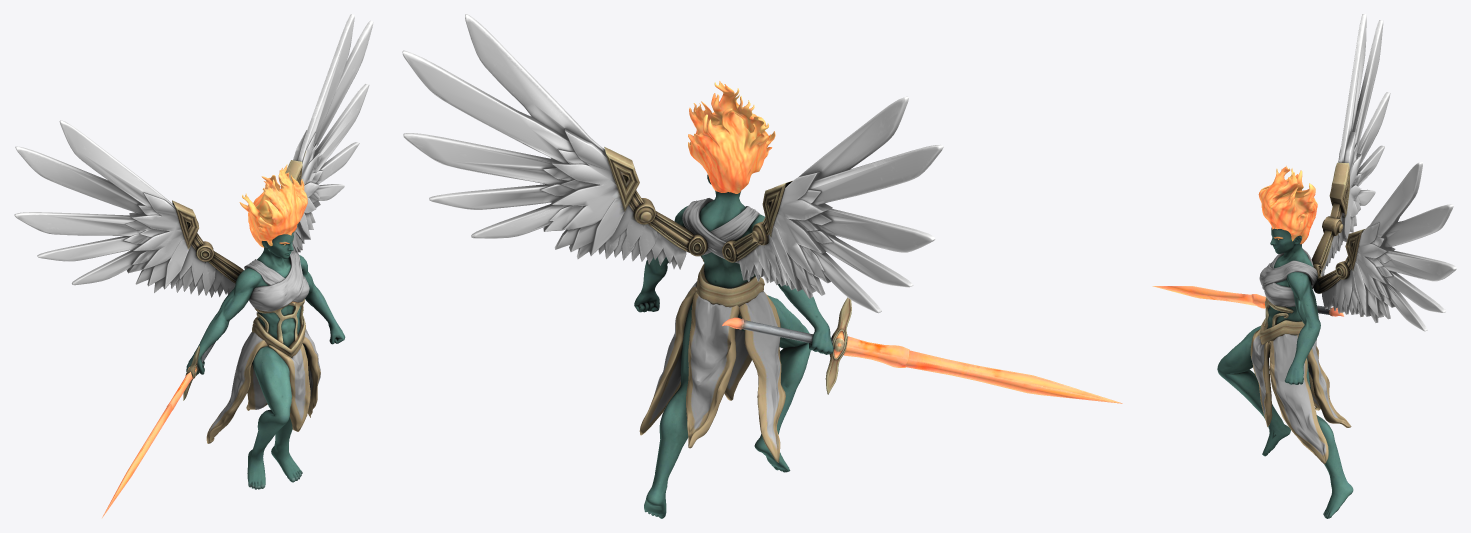
Rendered from MZ4250 - Planetar Female 2025 4K.glb.
3 renders of one model, left to right at view 1: azimuth 30°, elevation 25°; view 2: azimuth 150°, elevation 25°; view 3: azimuth 270°, elevation 25°, orthographic. The views are drawn at different scales.
Visible parts, largest first — view 1: Body.002; view 2: Body.002; view 3: Body.002.
Boxes of the visible parts, left/top/right/bottom form: Body.002: left=14, top=14, right=373, bottom=517; Body.002: left=402, top=14, right=1122, bottom=518; Body.002: left=1152, top=14, right=1456, bottom=518.
Size of the model in its own units: 224 by 207 by 141.
Materials: 2 (2 with a texture image).
